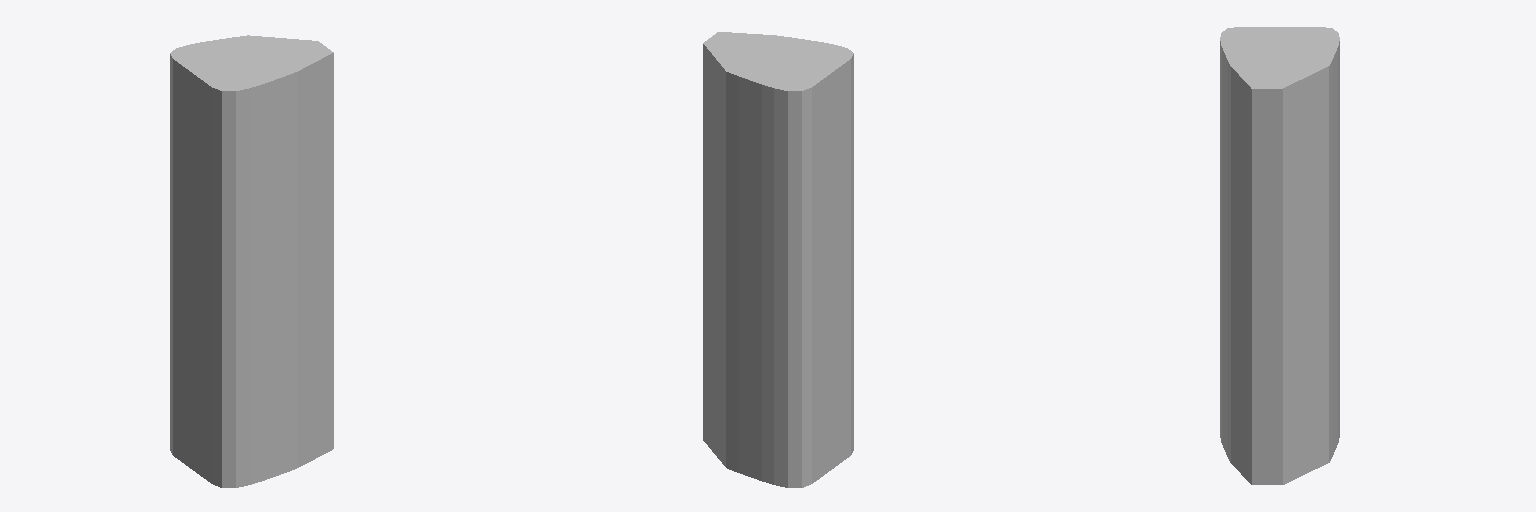
Rendered from Window_Slider_48x36_collision_8.obj.
3 renders of one model, left to right at view 1: azimuth 30°, elevation 25°; view 2: azimuth 150°, elevation 25°; view 3: azimuth 270°, elevation 25°, orthographic.
Bounding box in the file's own units: 0.1164 × 0.347 × 0.0947.